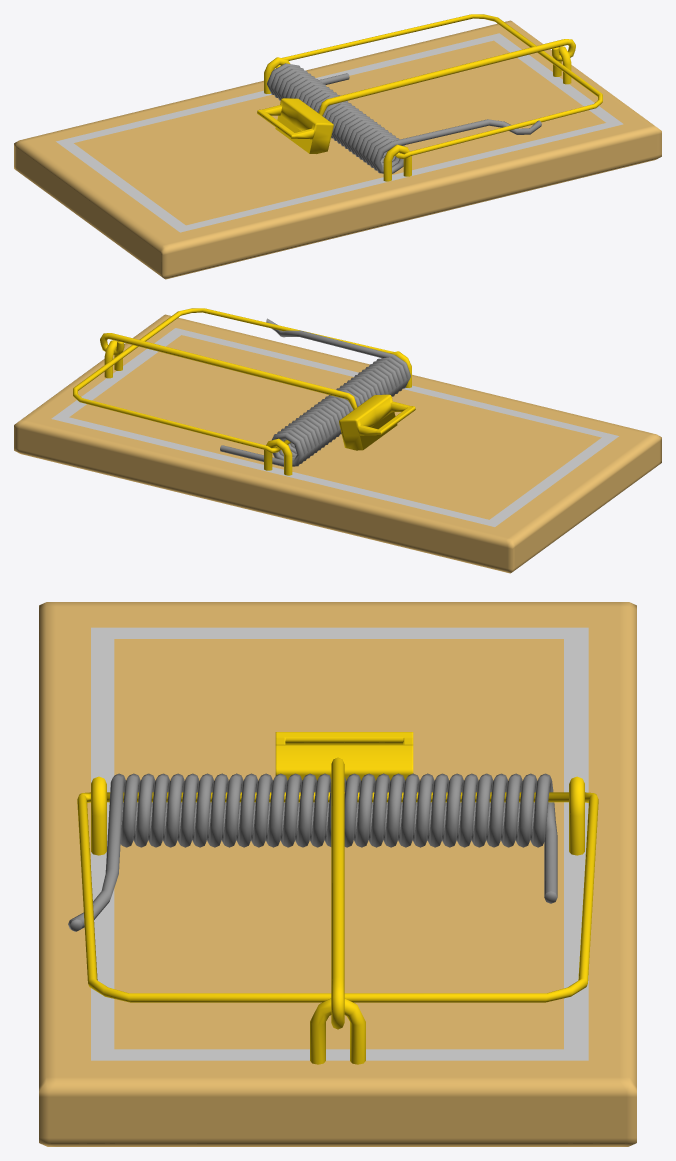
Rendered from mousetrap.dae.
3 renders of one model, top to bottom at view 1: azimuth 30°, elevation 25°; view 2: azimuth 150°, elevation 25°; view 3: azimuth 270°, elevation 25°, orthographic. The views are drawn at different scales.
Parts seen in each view (by area): view 1: Cube, Circle, Circle_001, Circle_003, Circle_004, Cube_001; view 2: Cube, Circle, Circle_001, Circle_003, Circle_004, Cube_001; view 3: Cube, Circle, Circle_001, Circle_003, Cube_001, Circle_004.
Boxes of the visible parts, <box> form: Cube: <box>14,20,661,279</box>; Circle: <box>267,63,541,173</box>; Circle_001: <box>275,14,602,159</box>; Circle_003: <box>257,98,333,153</box>; Circle_004: <box>318,39,575,115</box>; Cube_001: <box>264,46,571,181</box>; Cube: <box>14,314,661,573</box>; Circle: <box>220,318,410,466</box>; Circle_001: <box>73,308,393,453</box>; Circle_003: <box>339,394,415,450</box>; Circle_004: <box>100,333,357,409</box>; Cube_001: <box>104,340,411,475</box>; Cube: <box>39,602,636,1146</box>; Circle: <box>68,773,557,931</box>; Circle_001: <box>77,792,598,1002</box>; Circle_003: <box>275,732,413,780</box>; Cube_001: <box>91,776,584,1064</box>; Circle_004: <box>331,757,344,1029</box>.
Bounding box in the file's own units: 5.56 × 2.89 × 0.7686.
